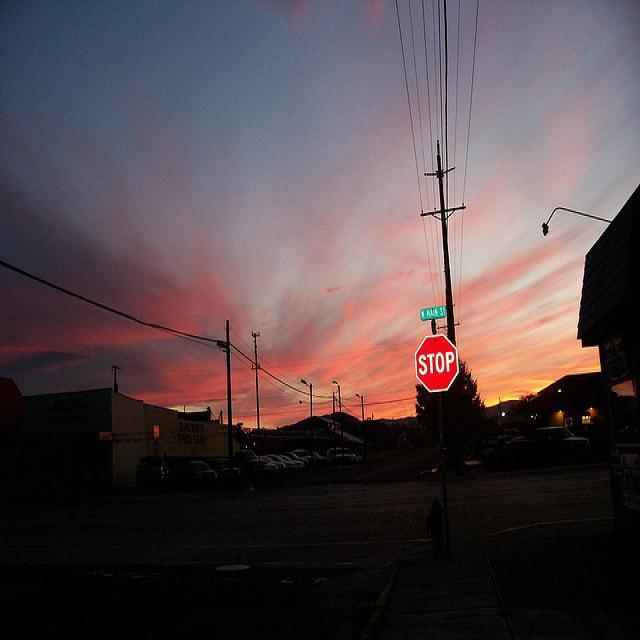fire_hydrant: (424, 497, 444, 555)
